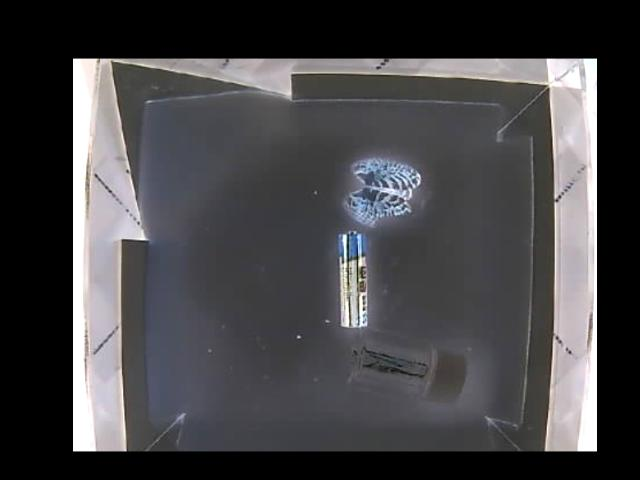Battery: (336, 232, 366, 326)
Bottle: (347, 332, 470, 405)
Shell: (344, 158, 424, 225)
